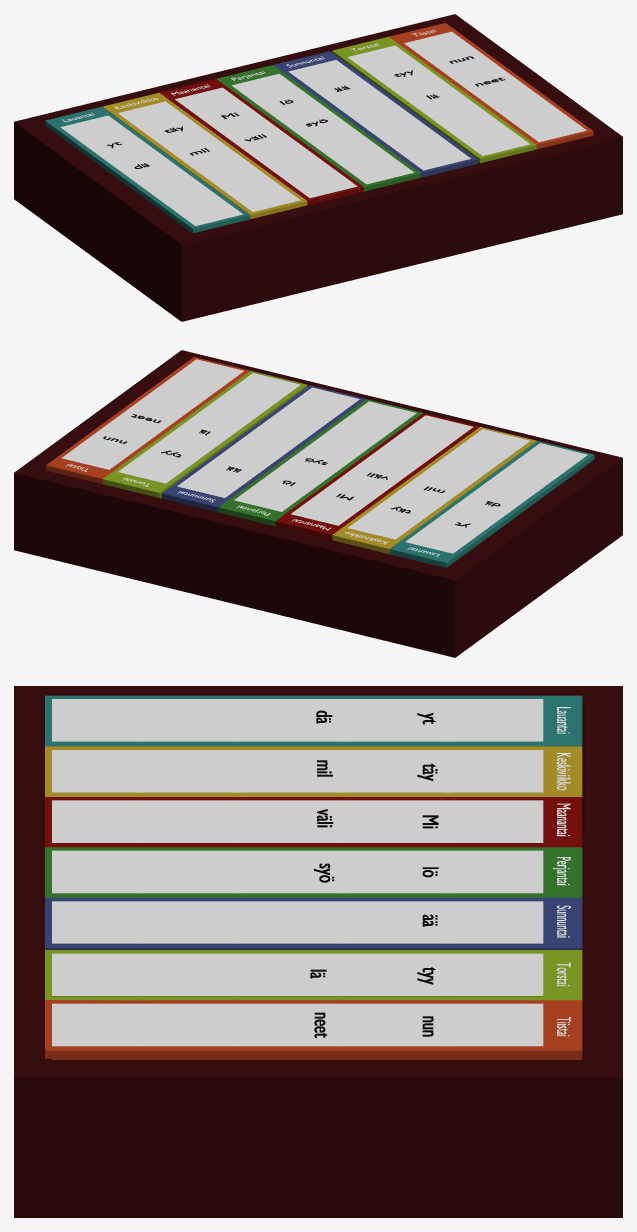
Rendered from Dosetti.fbx.
3 views of the same model, one above another, from view 1: azimuth 30°, elevation 25°; view 2: azimuth 150°, elevation 25°; view 3: azimuth 270°, elevation 25° (orthographic). The views are drawn at different scales.
Parts seen in each view (by area): view 1: laatikko, lauantai, torstai, keskiviikko, sunnuntai, maanantai, perjantai, tiistai; view 2: laatikko, lauantai, torstai, keskiviikko, sunnuntai, perjantai, maanantai, tiistai; view 3: laatikko, tiistai, sunnuntai, lauantai, perjantai, keskiviikko, maanantai, torstai.
Boxes of the visible parts, <box> form: laatikko: <box>14,14,622,321</box>; lauantai: <box>45,106,249,233</box>; torstai: <box>332,37,536,163</box>; keskiviikko: <box>102,92,307,219</box>; sunnuntai: <box>273,51,477,177</box>; maanantai: <box>160,79,364,205</box>; perjantai: <box>216,65,420,191</box>; tiistai: <box>389,23,593,149</box>; laatikko: <box>14,350,622,657</box>; lauantai: <box>389,441,594,567</box>; torstai: <box>103,371,307,498</box>; keskiviikko: <box>332,427,536,553</box>; sunnuntai: <box>161,385,365,512</box>; perjantai: <box>218,399,422,526</box>; maanantai: <box>275,413,479,539</box>; tiistai: <box>46,357,250,484</box>; laatikko: <box>14,686,622,1217</box>; tiistai: <box>45,1000,582,1059</box>; sunnuntai: <box>45,897,582,949</box>; lauantai: <box>45,695,582,746</box>; perjantai: <box>45,847,582,897</box>; keskiviikko: <box>45,746,582,796</box>; maanantai: <box>45,797,582,847</box>; torstai: <box>45,950,582,1000</box>.
Bounding box in the file's own units: 15.5 × 2.77 × 10.2.
